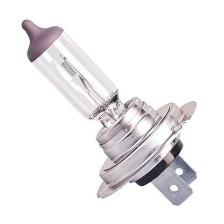light_bulb: (17, 15, 203, 208)
